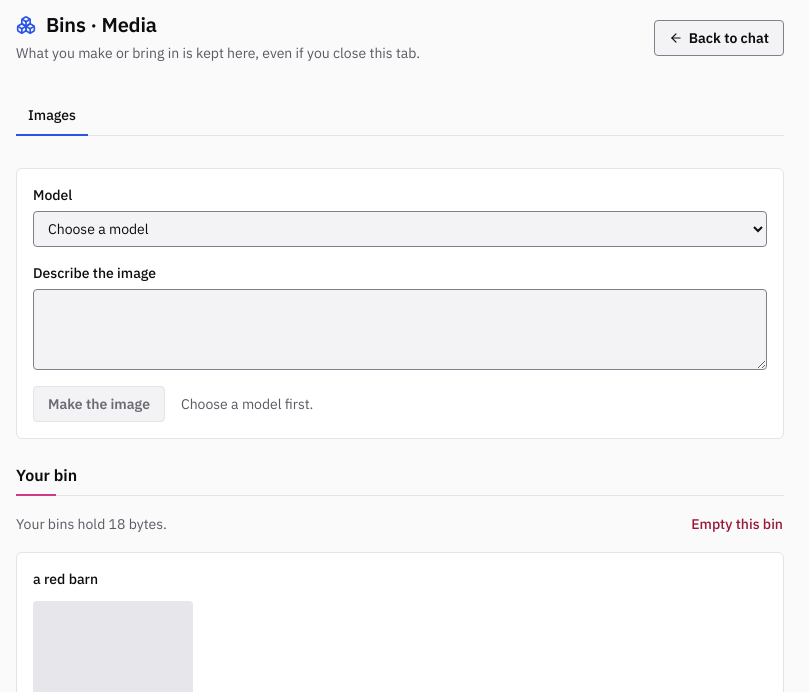
Scenario: gives the count when emptying a bin, and says it cannot be undone
Click the button "Empty this bin" at (737, 524), box [682, 508, 792, 540]
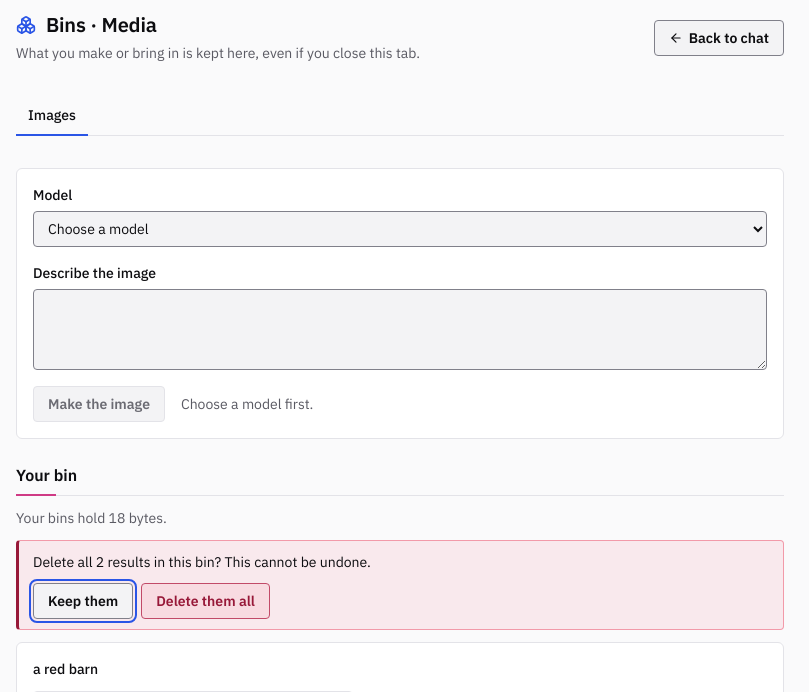
Check: the text "Delete all 2 results in this bin? This cannot be undone." is shown, box [33, 551, 371, 573]
